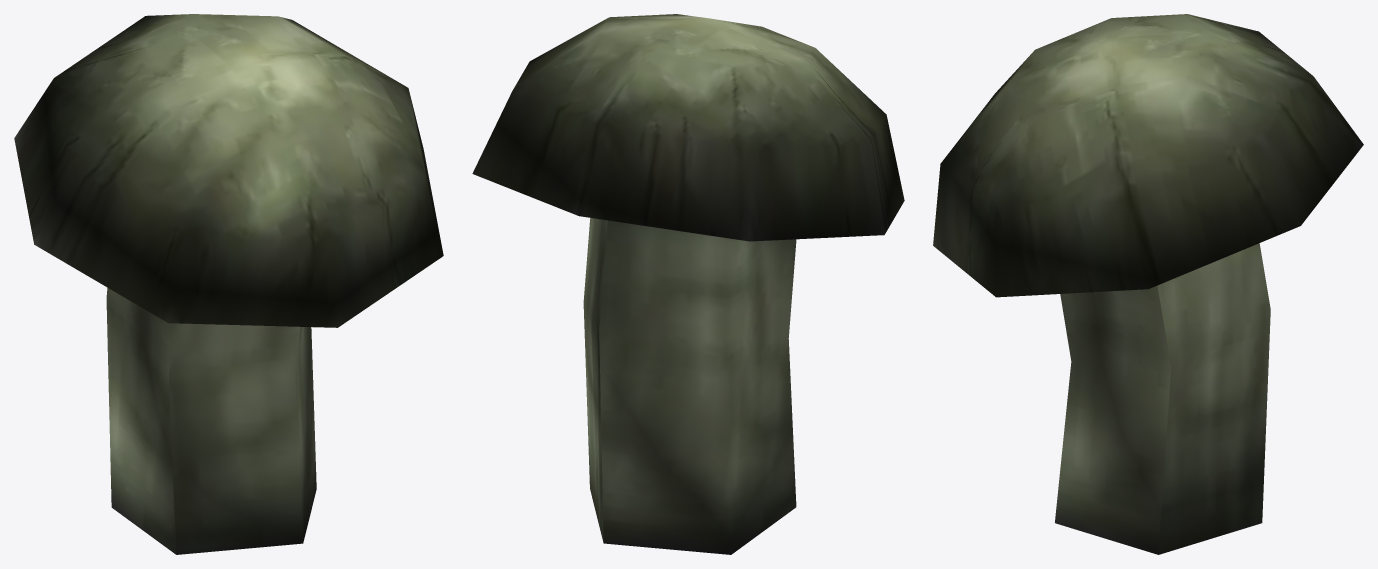
The model's file is ITPL_MUSHROOM_01.glb.
3 views of the same model, side by side, from view 1: azimuth 30°, elevation 25°; view 2: azimuth 150°, elevation 25°; view 3: azimuth 270°, elevation 25° (orthographic).
Parts seen in each view (by area): view 1: Mesh; view 2: Mesh; view 3: Mesh.
Boxes of the visible parts, <box> form: Mesh: <box>14,14,443,554</box>; Mesh: <box>472,14,904,554</box>; Mesh: <box>933,14,1363,554</box>.
Bounding box in the file's own units: 0.2729 × 0.3182 × 0.2642.
Materials: 1 (1 with a texture image).
